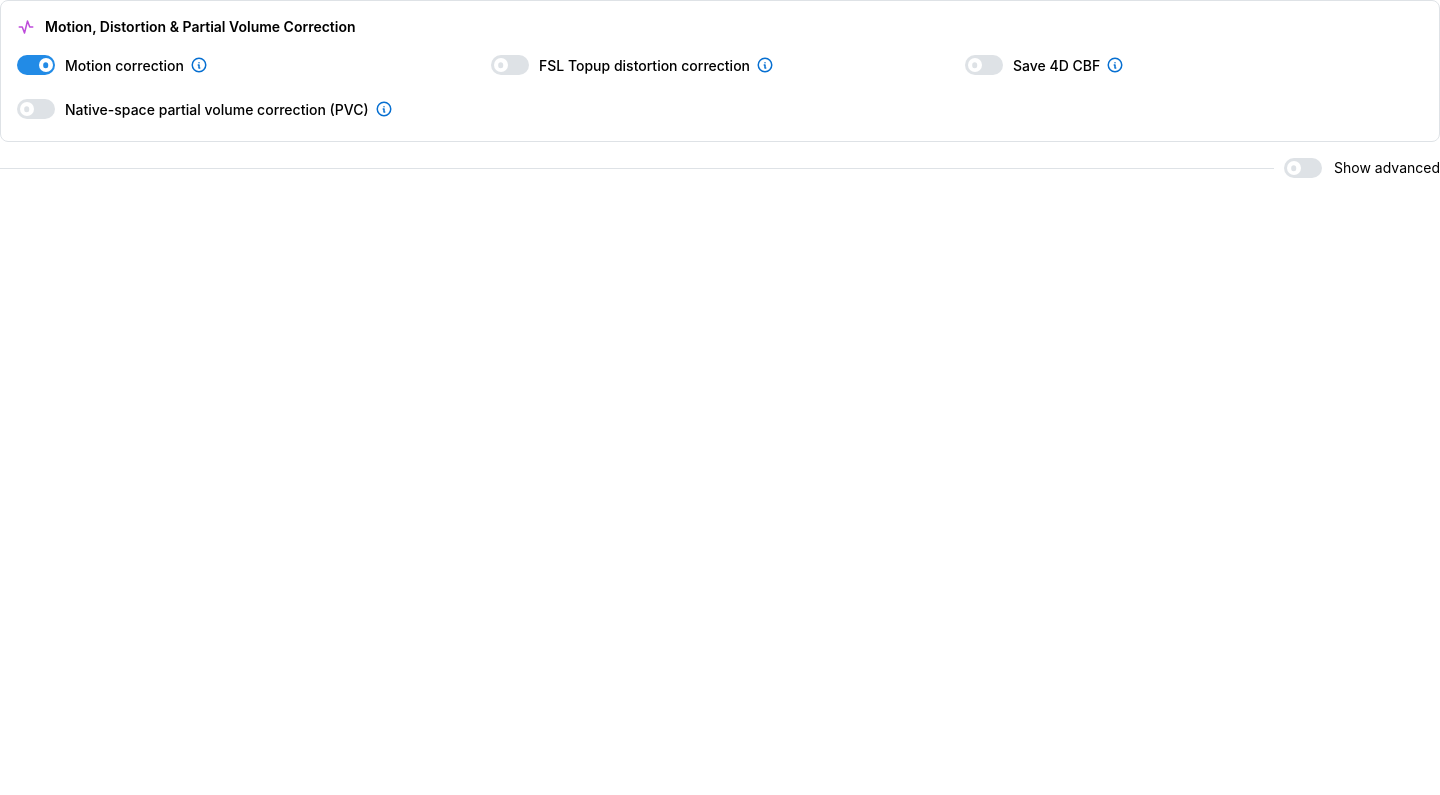
Test case: ASLProcessingSection › shows advanced fields when toggled on
The width and height of the screenshot is (1440, 795).
Click the checkbox labelled "Show advanced" at (1362, 168), box [1284, 158, 1439, 178]
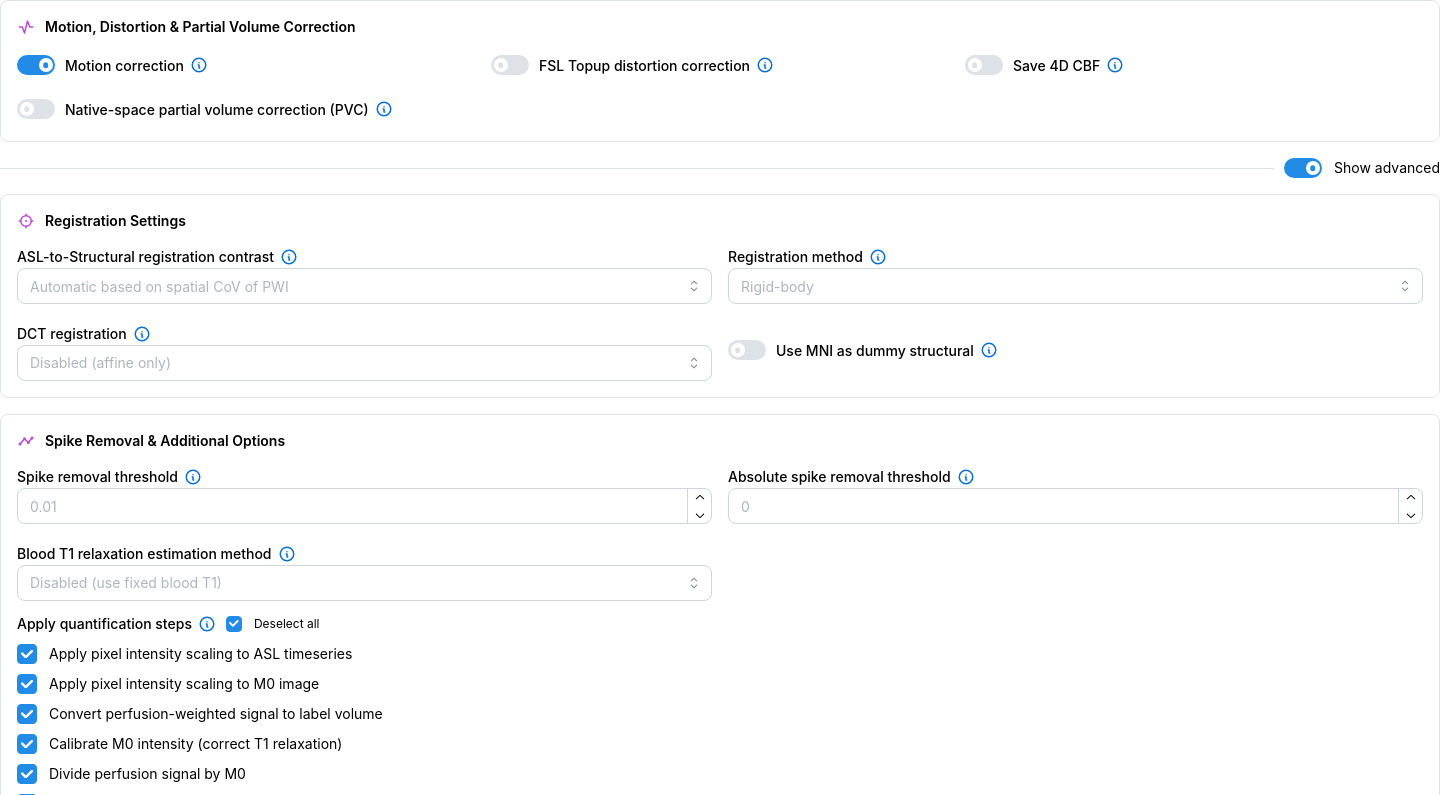
expect the text "Spike removal threshold" is shown: met, box [17, 468, 178, 488]
expect the text "ASL-to-Structural registration contrast" is shown: met, box [17, 248, 274, 268]
expect the text "Registration method" is shown: met, box [728, 248, 863, 268]
